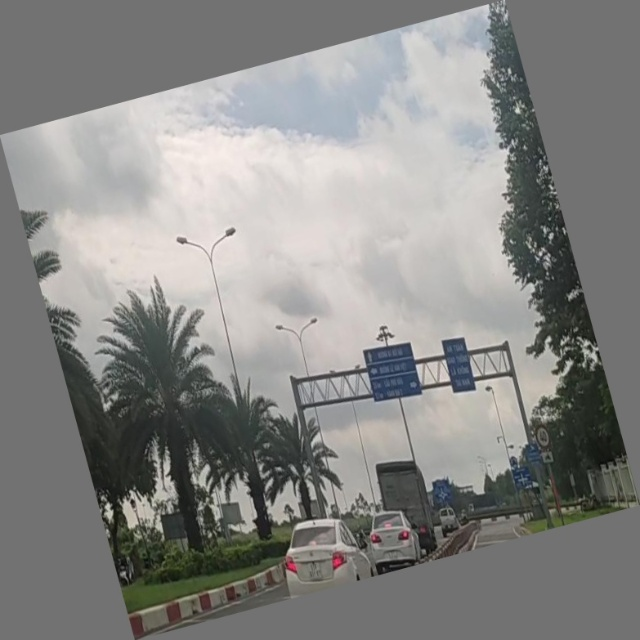P.127*40: (531, 420, 552, 450)
S.505a*Xe may: (540, 448, 556, 466)
